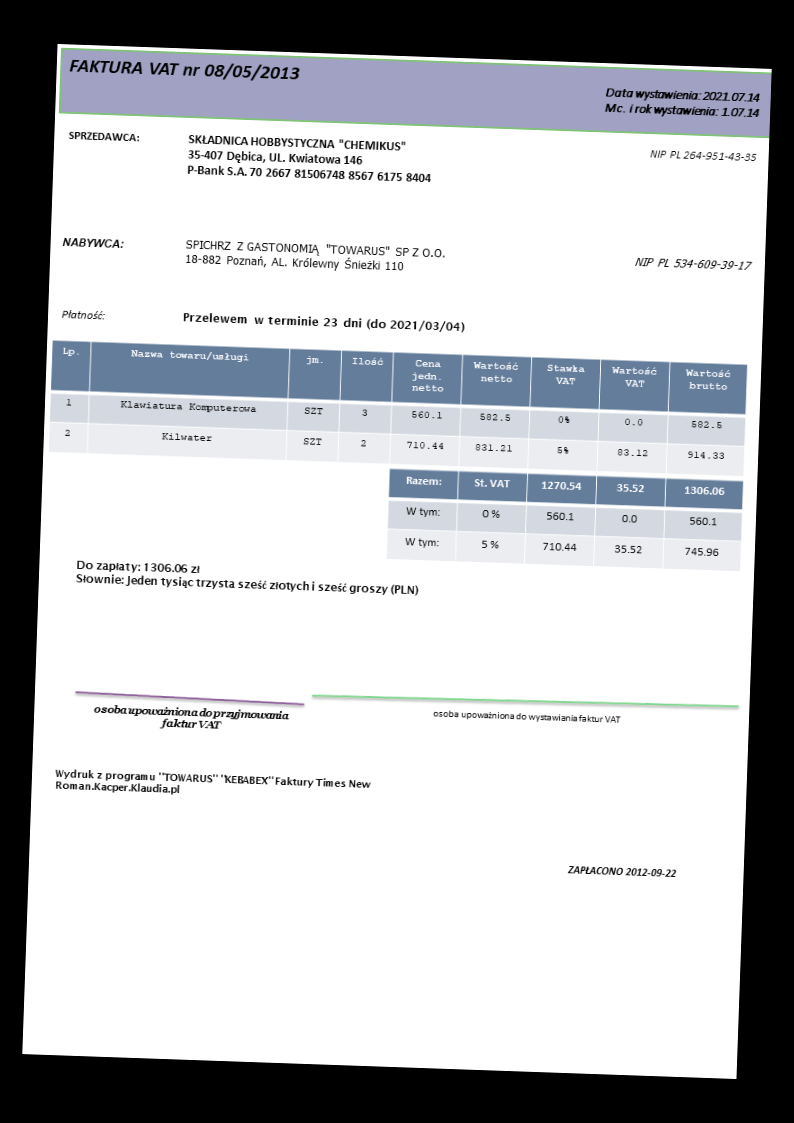Table: (46, 339, 748, 478), (385, 467, 745, 571)
TextBox: (74, 558, 421, 599), (184, 130, 435, 186), (52, 766, 372, 804), (182, 237, 449, 275), (181, 309, 467, 335), (66, 56, 302, 85), (92, 702, 291, 733), (602, 85, 762, 122), (431, 707, 621, 727), (565, 861, 677, 882), (633, 255, 752, 274), (648, 147, 757, 164), (66, 128, 142, 145), (60, 234, 126, 252), (60, 307, 106, 322)
